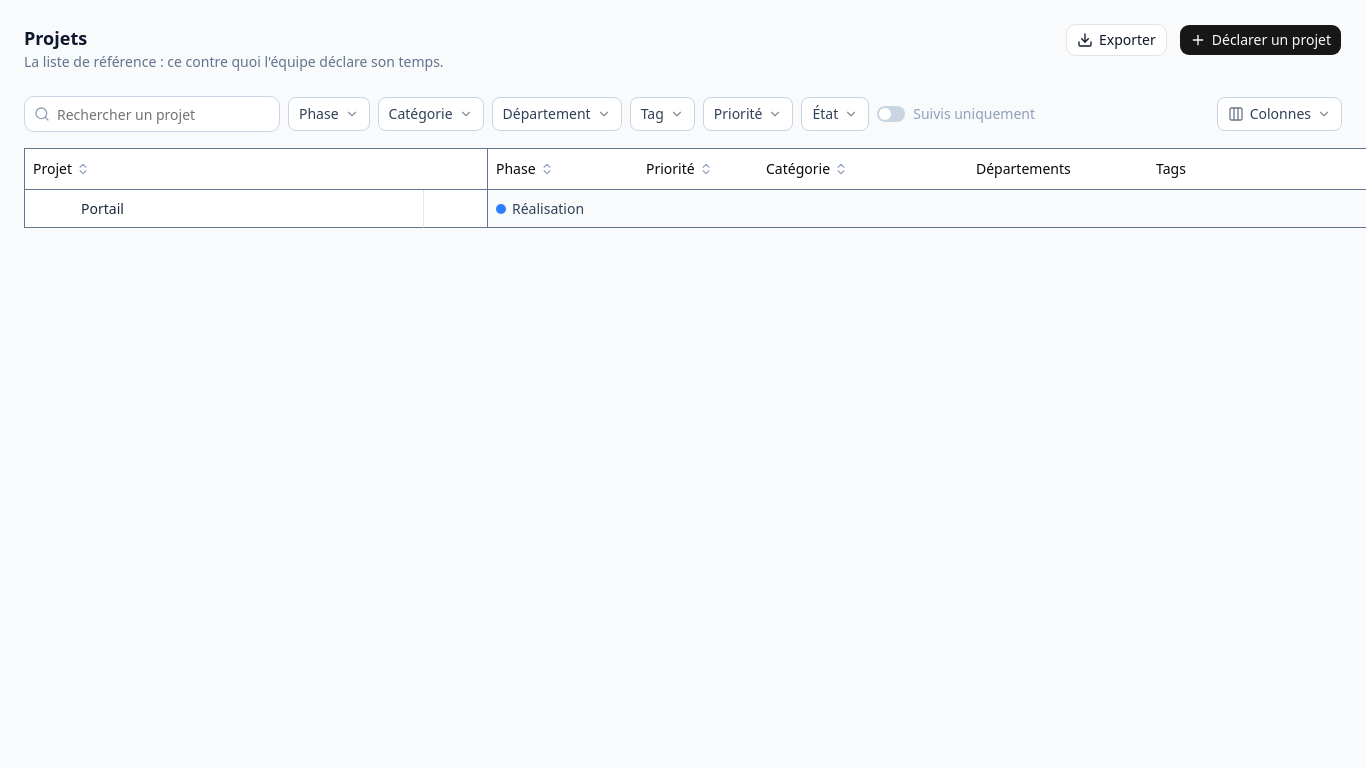
Test: the columns one puts away › brings the whole panorama back at once
The image size is (1366, 768).
Step 1. Click the button "Colonnes" → click(1279, 114), box [1217, 97, 1342, 131]
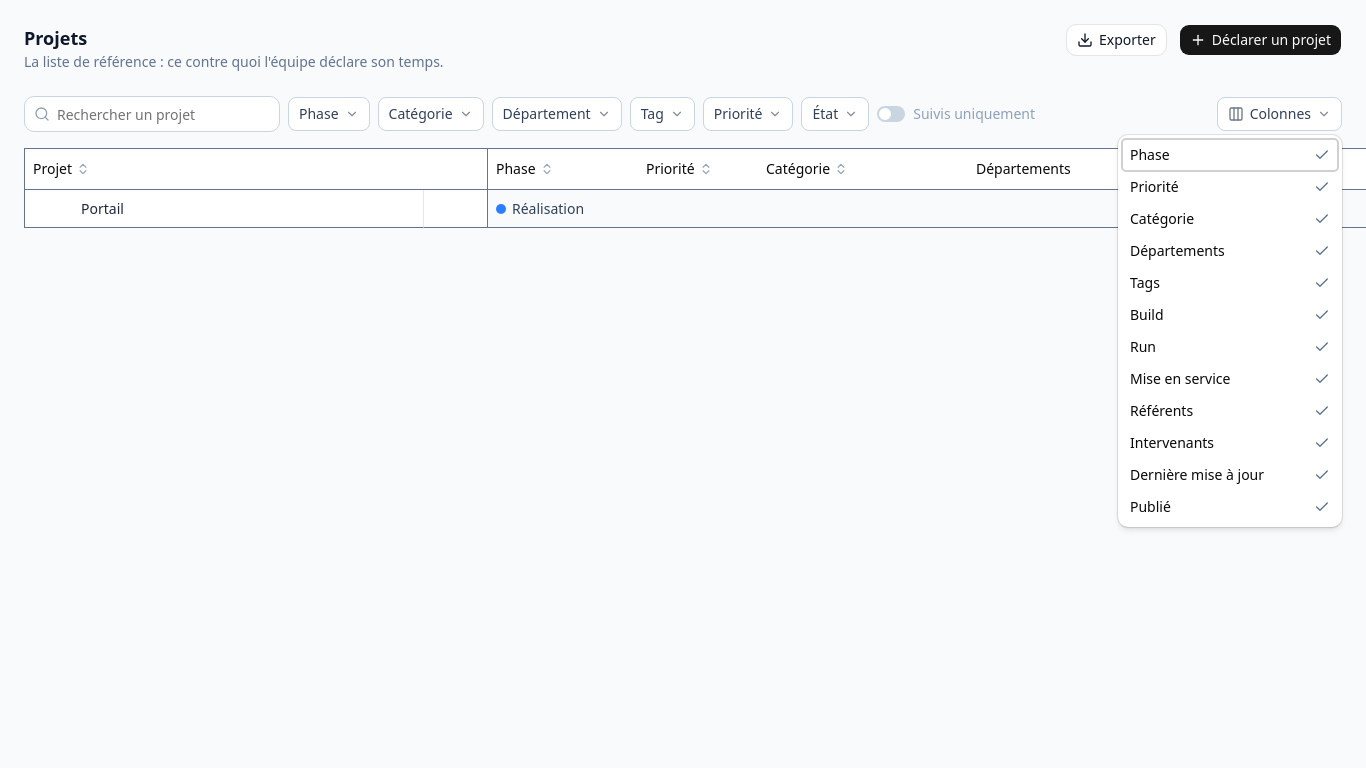
Step 2. Click the 3rd button "Catégorie" → click(1230, 219), box [1122, 203, 1338, 235]
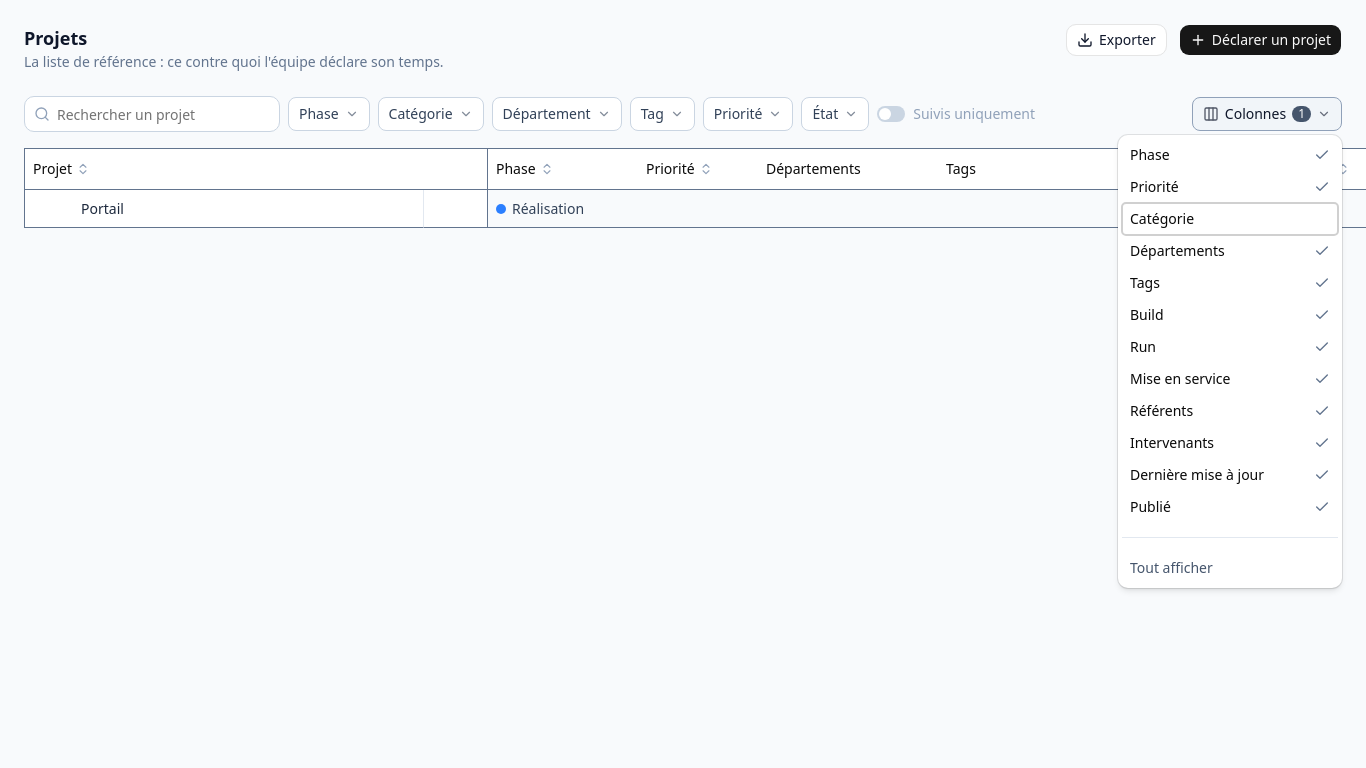
Step 3. Click the button "Tout afficher" → click(1230, 568), box [1122, 552, 1338, 584]
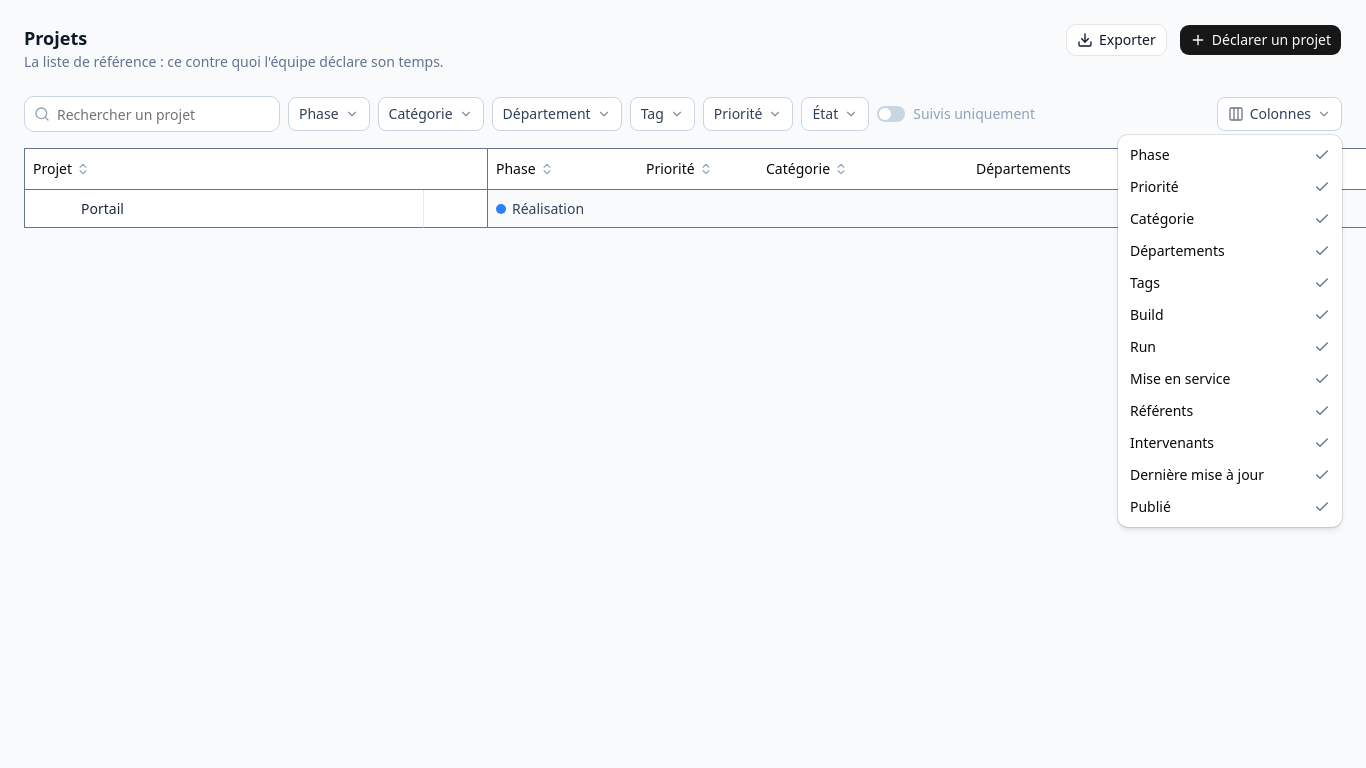
expect the button "Catégorie" in the row of "Référents" is shown: met, box [758, 149, 968, 189]
